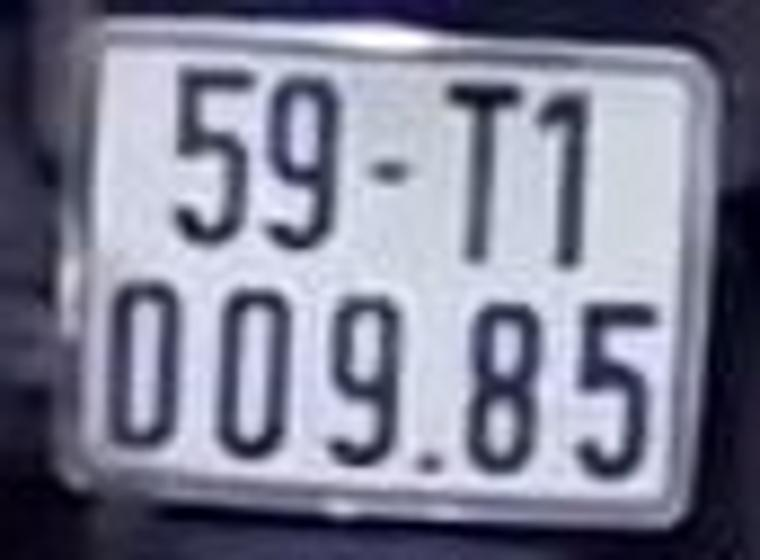-: (359, 148, 421, 200)
.: (418, 446, 450, 474)
0: (216, 280, 297, 463), (109, 275, 185, 452)
1: (536, 87, 599, 272)
5: (166, 59, 256, 248), (577, 302, 659, 481)
8: (464, 287, 544, 483)
9: (268, 71, 339, 259), (331, 285, 399, 472)
T: (440, 71, 523, 269)
